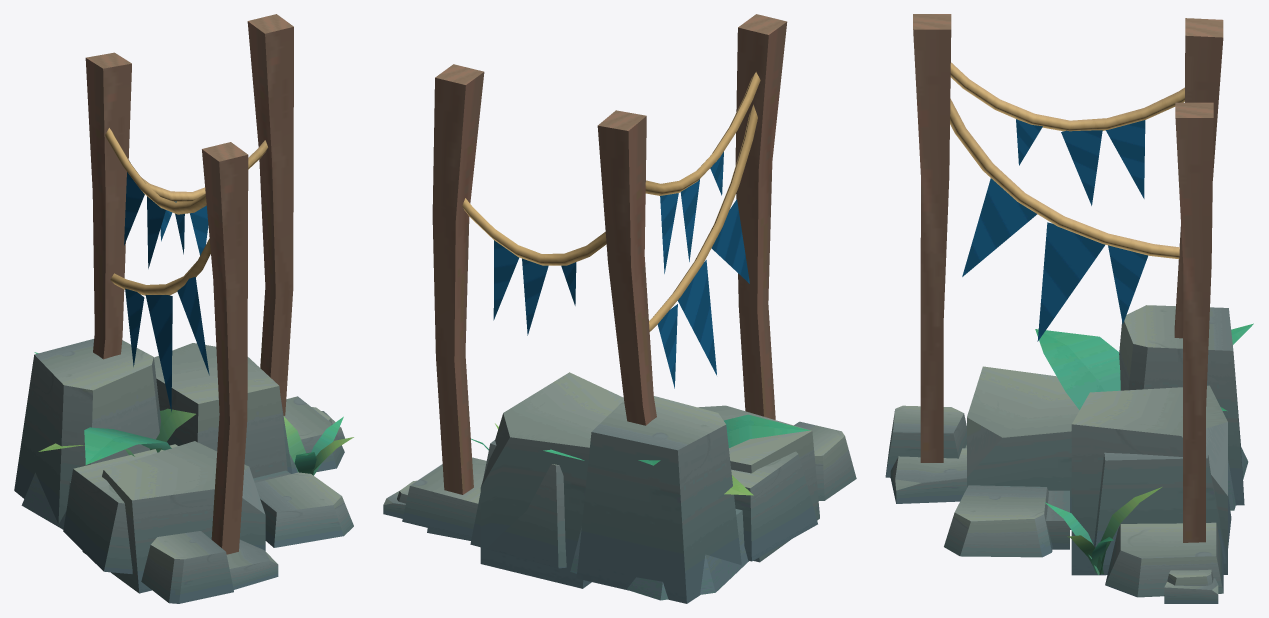
The model's file is WallCorner-004_40_06_3594.fbx.
3 renders of one model, left to right at view 1: azimuth 30°, elevation 25°; view 2: azimuth 150°, elevation 25°; view 3: azimuth 270°, elevation 25°, orthographic. The views are drawn at different scales.
Visible parts, largest first — view 1: Corner4 (1), Corner1, Wood1.002 (1), Wood1.002 (3), Wood1.002 (2), DecoRocks (2), Wall1 (2), Flag1.001 (6), Plant3 (1), Rope2 (2), Flag1.001 (3) (×2), Rope2 (1) (+4 smaller); view 2: Corner4 (1), Corner1, Wood1.002 (3), Wood1.002 (1), Wood1.002 (2), Wall1 (2), Rope2 (1), Flag1.001 (6), Rope2 (3), Flag1.001 (4) (×2), Flag1.001 (3) (×2), Rope2 (2) (+2 smaller); view 3: Corner1, Corner4 (1), Wood1.002 (1), Wood1.002 (3), DecoRocks (2), Wall1 (2), Wood1.002 (2), Flag1.001 (6), Rope2 (1), Rope2 (2), Flag1.001 (7), Plant3 (1) (+4 smaller).
Boxes of the visible parts, x1=… form: Corner4 (1): x1=14, y1=339, x2=287, y2=573; Corner1: x1=21, y1=352, x2=344, y2=603; Wood1.002 (1): x1=202, y1=142, x2=248, y2=554; Wood1.002 (3): x1=247, y1=14, x2=293, y2=415; Wood1.002 (2): x1=85, y1=52, x2=131, y2=359; DecoRocks (2): x1=226, y1=472, x2=353, y2=589; Wall1 (2): x1=284, y1=396, x2=344, y2=473; Flag1.001 (6): x1=145, y1=295, x2=172, y2=411; Plant3 (1): x1=283, y1=416, x2=353, y2=475; Rope2 (2): x1=105, y1=128, x2=206, y2=214; Flag1.001 (3) (×2): x1=147, y1=196, x2=208, y2=268; Rope2 (1): x1=110, y1=238, x2=210, y2=295; Corner4 (1): x1=480, y1=372, x2=817, y2=603; Corner1: x1=383, y1=405, x2=856, y2=600; Wood1.002 (3): x1=432, y1=64, x2=484, y2=494; Wood1.002 (1): x1=735, y1=14, x2=787, y2=419; Wood1.002 (2): x1=597, y1=110, x2=656, y2=425; Wall1 (2): x1=397, y1=457, x2=486, y2=538; Rope2 (1): x1=649, y1=104, x2=757, y2=331; Flag1.001 (6): x1=677, y1=260, x2=716, y2=375; Rope2 (3): x1=462, y1=198, x2=606, y2=265; Flag1.001 (4) (×2): x1=493, y1=193, x2=678, y2=320; Flag1.001 (3) (×2): x1=522, y1=179, x2=699, y2=335; Rope2 (2): x1=645, y1=72, x2=760, y2=195; Corner1: x1=885, y1=323, x2=1253, y2=603; Corner4 (1): x1=1071, y1=305, x2=1244, y2=575; Wood1.002 (1): x1=913, y1=14, x2=951, y2=462; Wood1.002 (3): x1=1175, y1=102, x2=1213, y2=542; DecoRocks (2): x1=890, y1=445, x2=1052, y2=557; Wall1 (2): x1=1105, y1=522, x2=1223, y2=597; Wood1.002 (2): x1=1174, y1=18, x2=1223, y2=338; Flag1.001 (6): x1=1037, y1=222, x2=1105, y2=341; Rope2 (1): x1=950, y1=98, x2=1179, y2=259; Rope2 (2): x1=950, y1=62, x2=1184, y2=131; Flag1.001 (7): x1=962, y1=178, x2=1037, y2=276; Plant3 (1): x1=1045, y1=487, x2=1161, y2=574.
Bounding box in the file's own units: 3.81 × 5.05 × 3.49.
